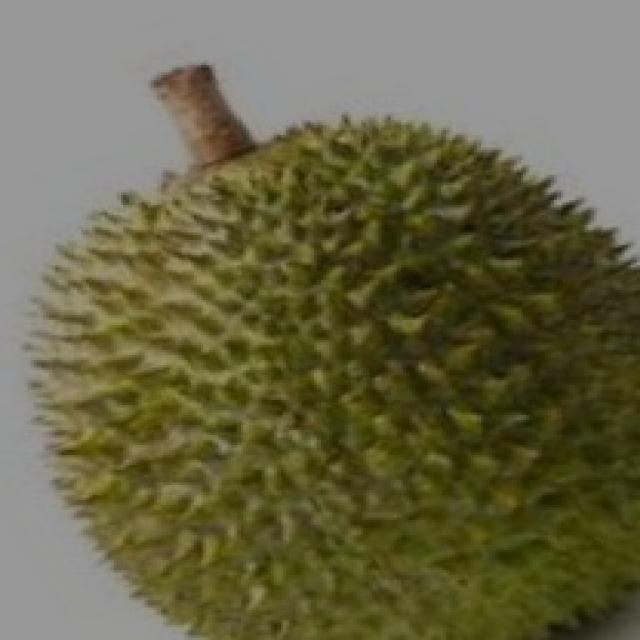fruit: (3, 290, 391, 640)
